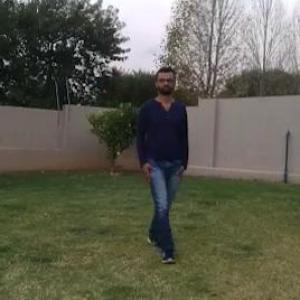follow: (141, 73, 184, 243)
